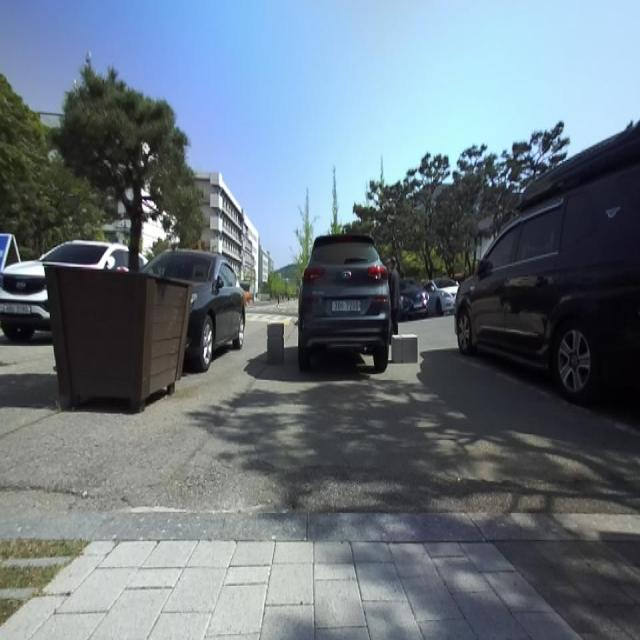sidewalk: (0, 511, 640, 640), (146, 324, 467, 512)
